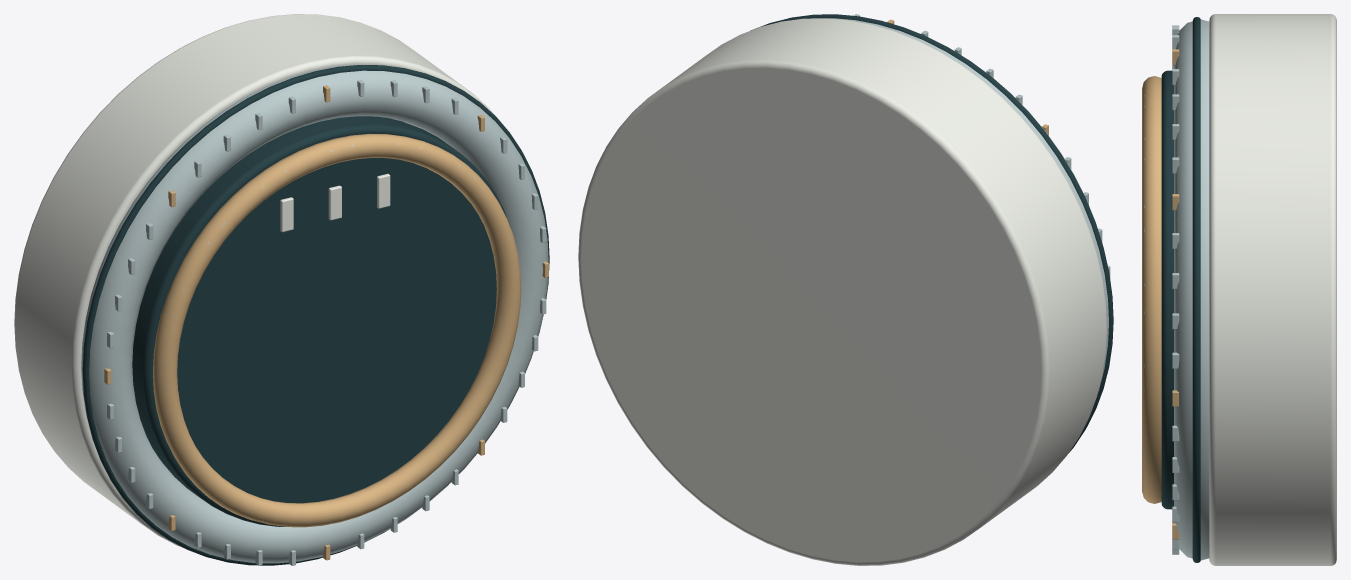
Rendered from lens-cache.glb.
3 views of the same model, side by side, from view 1: azimuth 30°, elevation 25°; view 2: azimuth 150°, elevation 25°; view 3: azimuth 270°, elevation 25° (orthographic).
Parts seen in each view (by area): view 1: Opaque lens cover, lens-cache | Secret | machined aluminum, Inset housing, SearchRing, lens-cache | Secret | graphite, CoverSlide | Secret | porcelain, lens-cache | Secret | champagne metal; view 2: Inset housing, lens-cache | Secret | graphite, lens-cache | Secret | machined aluminum; view 3: Inset housing, lens-cache | Secret | machined aluminum, SearchRing, Opaque lens cover, lens-cache | Secret | graphite, lens-cache | Secret | champagne metal.
Part boxes in pixels (left/top/right/bottom): Opaque lens cover: left=132, top=116, right=510, bottom=526; lens-cache | Secret | machined aluminum: left=81, top=65, right=548, bottom=565; Inset housing: left=14, top=14, right=502, bottom=547; SearchRing: left=153, top=133, right=521, bottom=527; lens-cache | Secret | graphite: left=82, top=65, right=549, bottom=565; CoverSlide | Secret | porcelain: left=280, top=173, right=390, bottom=232; lens-cache | Secret | champagne metal: left=104, top=85, right=548, bottom=560; Inset housing: left=578, top=18, right=1106, bottom=565; lens-cache | Secret | graphite: left=750, top=14, right=1113, bottom=453; lens-cache | Secret | machined aluminum: left=829, top=14, right=1110, bottom=392; Inset housing: left=1209, top=14, right=1336, bottom=565; lens-cache | Secret | machined aluminum: left=1172, top=19, right=1209, bottom=560; SearchRing: left=1142, top=76, right=1161, bottom=503; Opaque lens cover: left=1161, top=70, right=1173, bottom=509; lens-cache | Secret | graphite: left=1192, top=17, right=1200, bottom=562; lens-cache | Secret | champagne metal: left=1172, top=49, right=1179, bottom=539.
Bounding box in the file's own units: 1.56 × 1.56 × 0.55.
